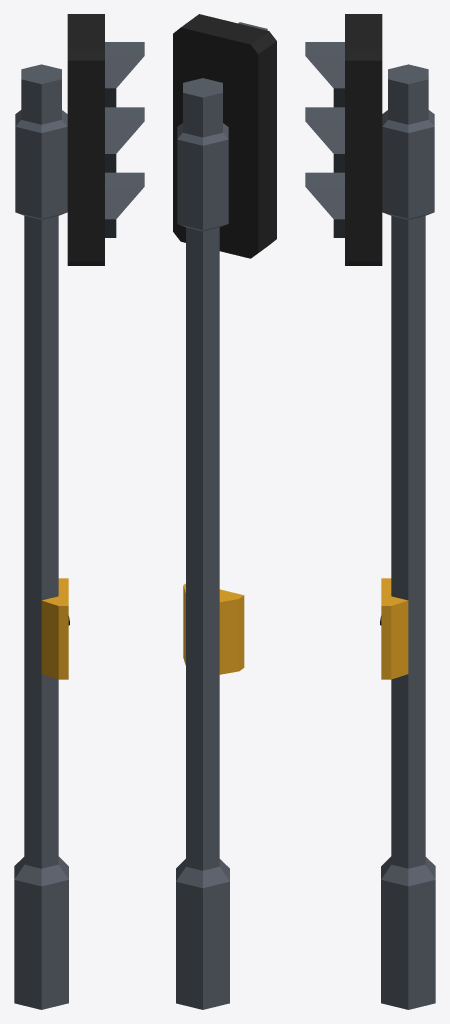
The model's file is TrafficLight.fbx.
The picture shows the model from 3 angles, left to right: view 1: azimuth 90°, elevation 25°; view 2: azimuth 150°, elevation 25°; view 3: azimuth 270°, elevation 25°; orthographic projection.
Parts seen in each view (by area): view 1: TrafficLight; view 2: TrafficLight; view 3: TrafficLight.
Part boxes in pixels (x1,y1,x2,y2): TrafficLight: [14, 14, 144, 1009]; TrafficLight: [173, 14, 276, 1009]; TrafficLight: [305, 14, 435, 1009].
Bounding box in the file's own units: 28.89 × 308 × 37.79.
